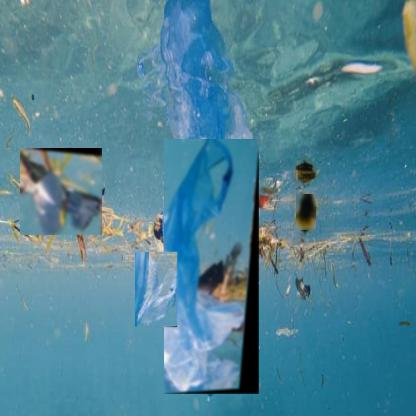plastic-bag: (164, 139, 260, 395)
waste: (20, 148, 103, 236), (135, 252, 178, 328), (296, 194, 317, 231)
